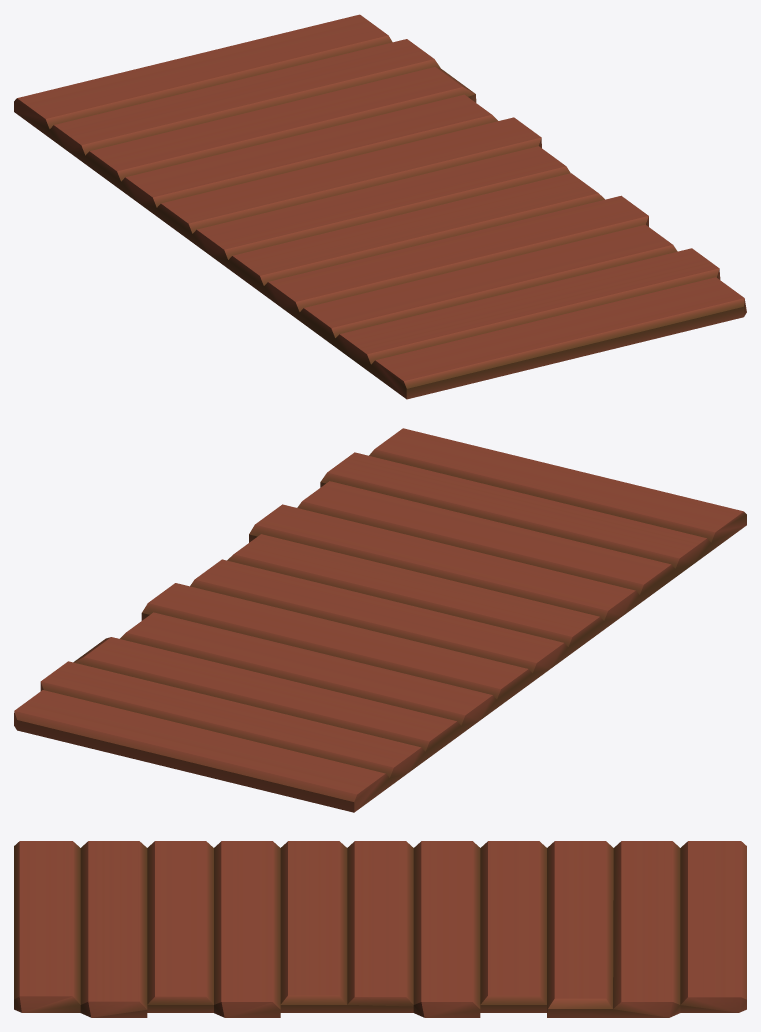
The model's file is WoodenPloorPatch1.fbx.
The picture shows the model from 3 angles, top to bottom: view 1: azimuth 30°, elevation 25°; view 2: azimuth 150°, elevation 25°; view 3: azimuth 270°, elevation 25°; orthographic projection. The views are drawn at different scales.
Visible parts, largest first — view 1: WoodenPloorPatch1; view 2: WoodenPloorPatch1; view 3: WoodenPloorPatch1.
Boxes of the visible parts, x1,y1,x2,y2 form: WoodenPloorPatch1: (14,14,746,399); WoodenPloorPatch1: (14,428,746,812); WoodenPloorPatch1: (14,841,746,1017).
Size of the model in its own units: 0.0363 by 0.00156 by 0.0695.
